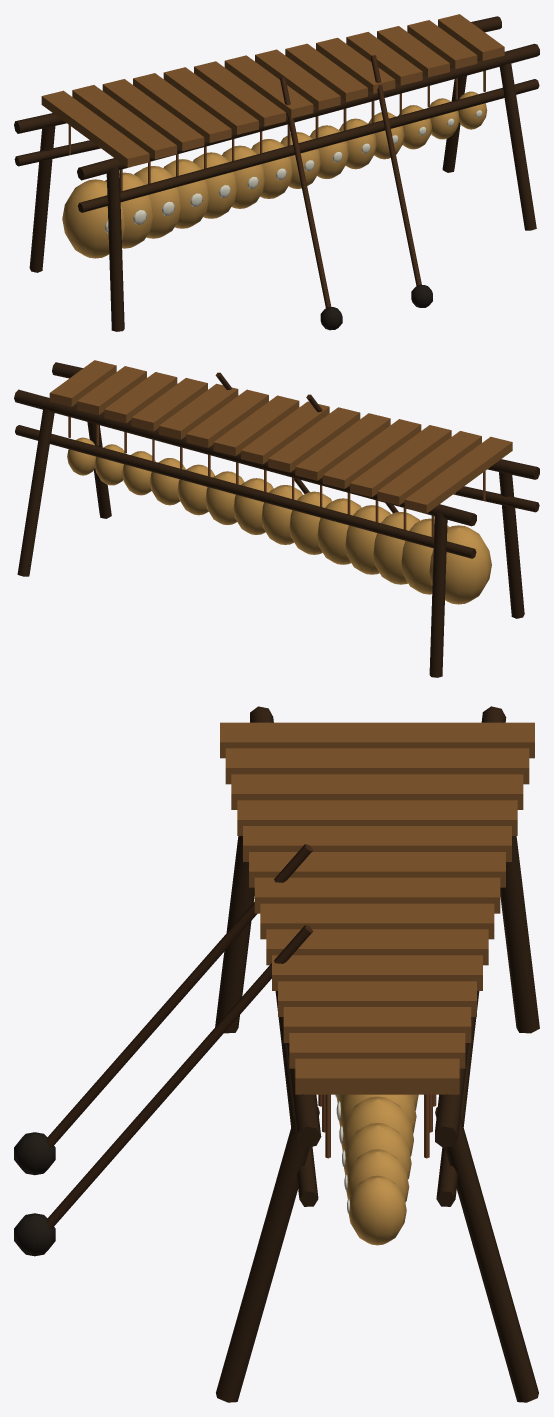
File: gyil.glb
The picture shows the model from 3 angles, top to bottom: view 1: azimuth 30°, elevation 25°; view 2: azimuth 150°, elevation 25°; view 3: azimuth 270°, elevation 25°; orthographic projection. The views are drawn at different scales.
Visible parts, largest first — view 1: gyil; view 2: gyil; view 3: gyil.
Boxes of the visible parts, left/top/right/bottom form: gyil: left=14, top=14, right=539, bottom=331; gyil: left=14, top=360, right=539, bottom=677; gyil: left=14, top=706, right=539, bottom=1402.
Size of the model in its own units: 1.45 by 0.5685 by 0.7676.
